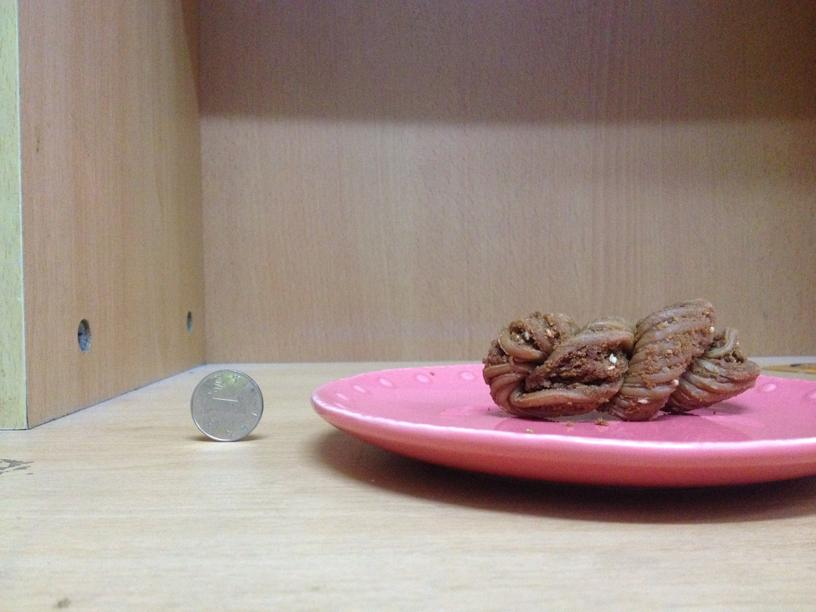coin: (187, 369, 263, 441)
fired_dough_twist: (480, 301, 757, 421)
